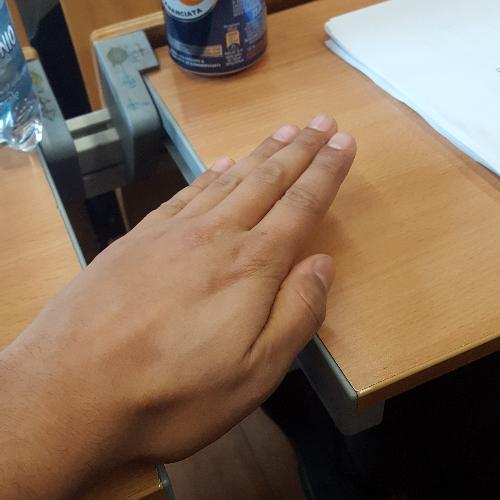paper: (37, 106, 371, 474)
